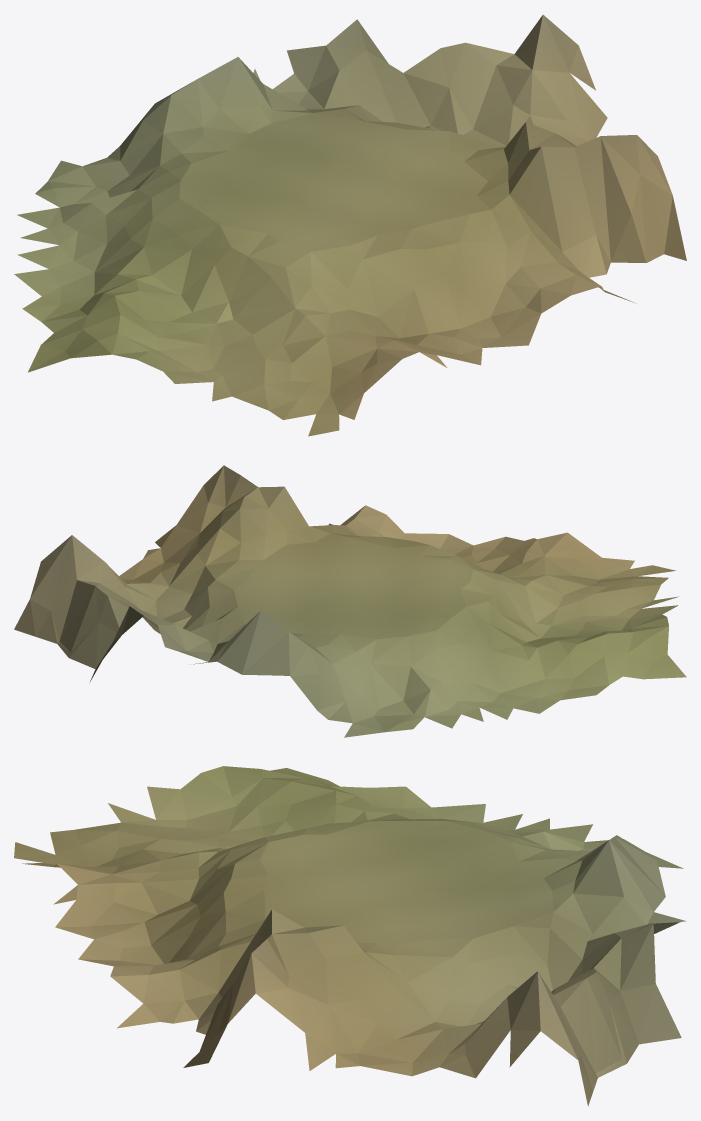
The picture shows the model from 3 angles, top to bottom: view 1: azimuth 30°, elevation 25°; view 2: azimuth 150°, elevation 25°; view 3: azimuth 270°, elevation 25°; orthographic projection. The views are drawn at different scales.
Parts seen in each view (by area): view 1: 两河绿带; view 2: 两河绿带; view 3: 两河绿带.
Boxes of the visible parts, left/top/right/bottom form: 两河绿带: left=14, top=15, right=686, bottom=436; 两河绿带: left=14, top=465, right=686, bottom=737; 两河绿带: left=14, top=766, right=686, bottom=1106.
Bounding box in the file's own units: 14.99 × 2.38 × 12.56.
